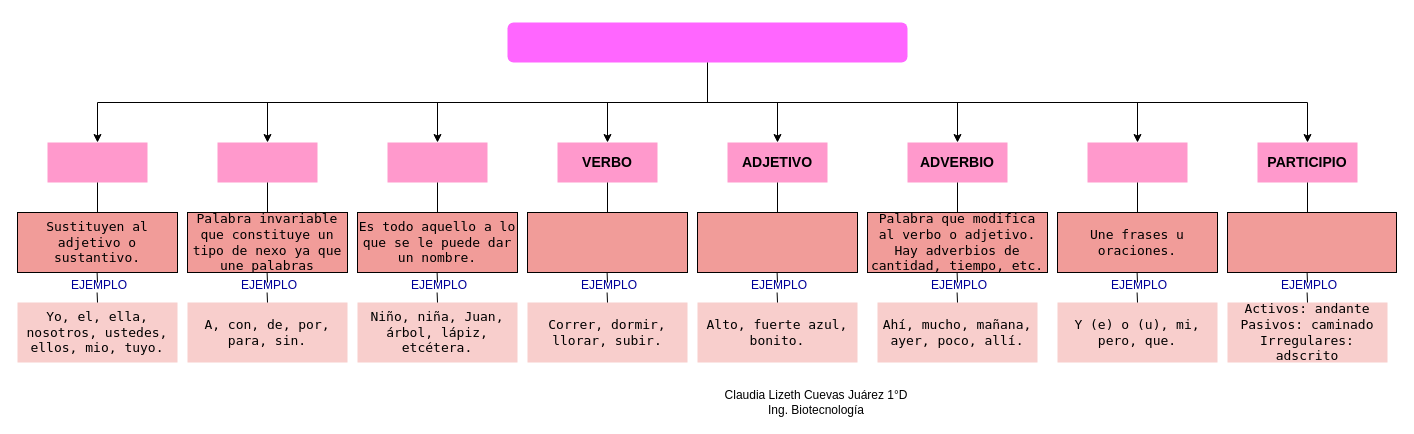
Image size: 1414x434. Some labels were removed from this diagram. Here are the shapes that lost their labels. From the top down, the box of each, then its label:
(507, 22, 907, 62): COMPONENTES Y USOS GRAMATICALES
(47, 142, 147, 182): PRONOMBRE
(217, 142, 317, 182): PREPOSICIÓN
(387, 142, 487, 182): SUSTANTIVO
(1087, 142, 1187, 182): CONJUNCIÓN
(526, 212, 688, 272): Se utilizan para expresar acciones, actitudes, sentimientos, etc.
(696, 212, 858, 272): Expresa cualidades del sustantivo.
(1226, 212, 1396, 272): Forma no personal del verbo, se divide en: activos, pasivos, irregulares
